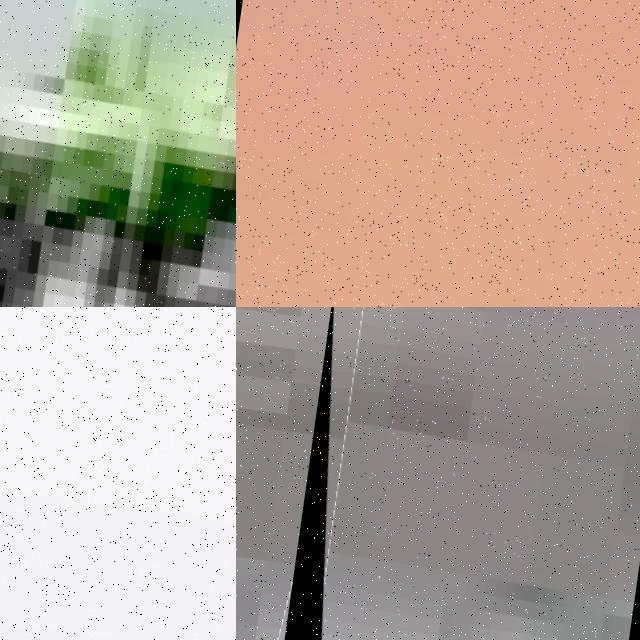drone: (276, 307, 640, 640), (0, 0, 236, 307)
